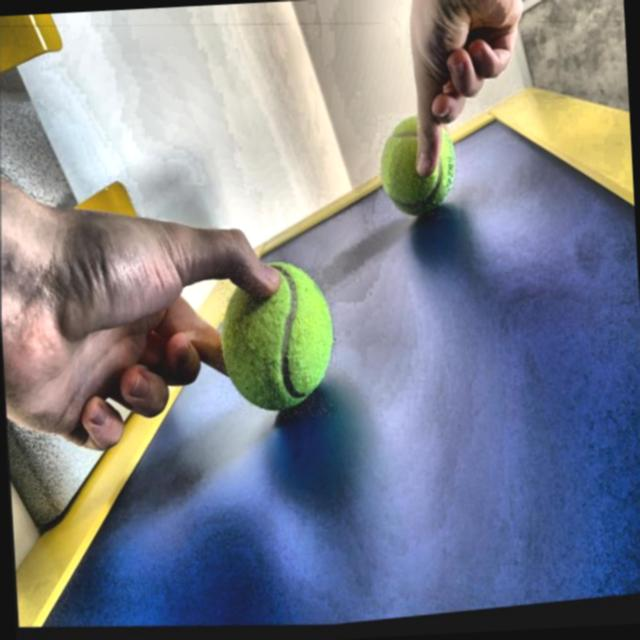tennis-ball: (208, 257, 344, 432), (372, 110, 468, 232)
